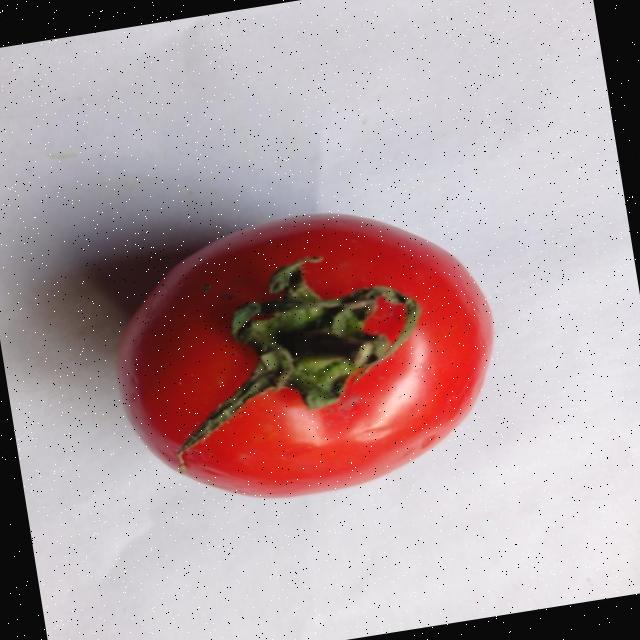Ripe: (87, 180, 523, 526)
